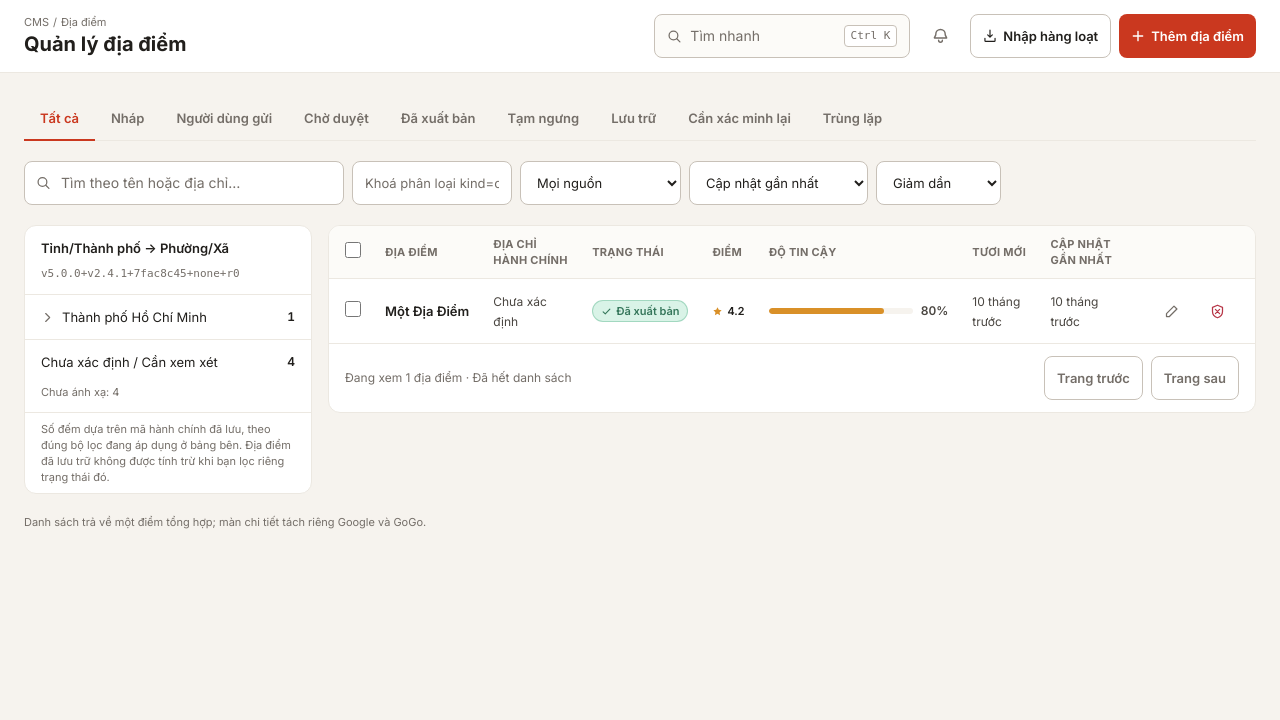
it: bulk place workflow › from published offers exactly the legal transitions
Step 1. Click the checkbox named "Một Địa Điểm" → [353, 308], box [345, 300, 361, 316]
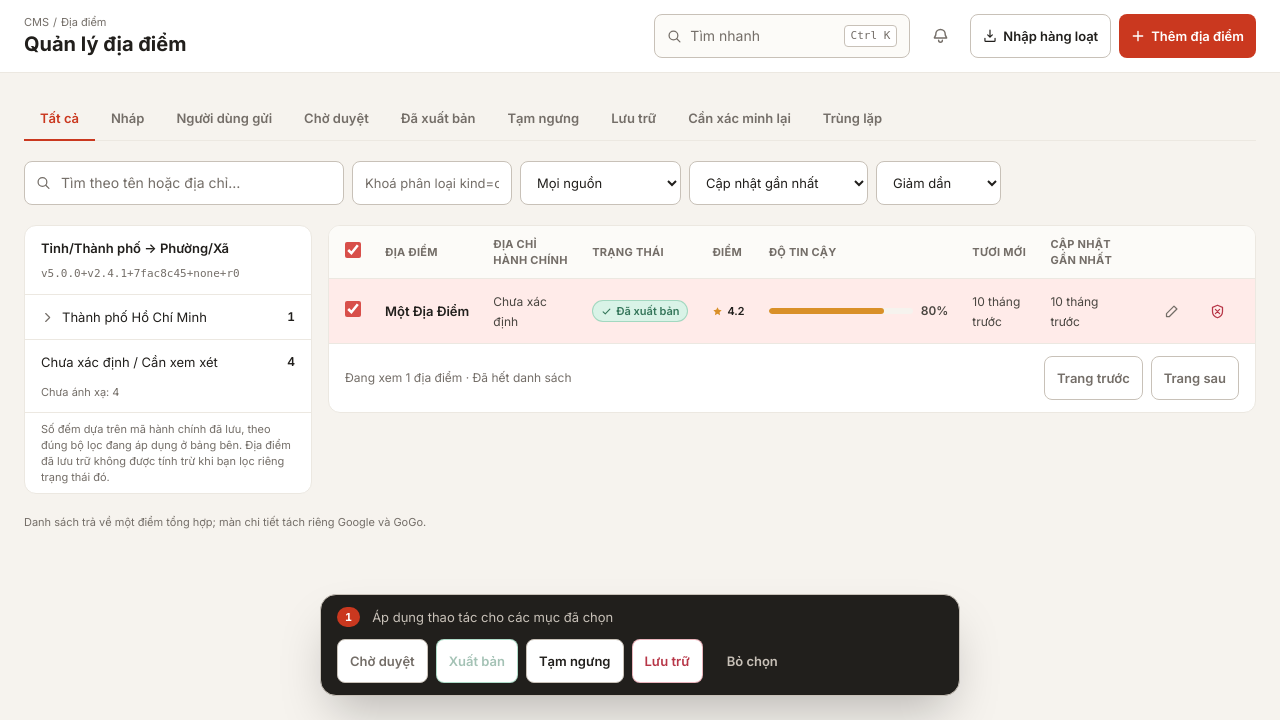
Result: the button "Xuất bản" is disabled at [436, 639, 518, 683]
Result: the button "Chờ duyệt" is disabled at [337, 639, 428, 683]
Result: the button "Tạm ngưng" is enabled at [526, 639, 624, 683]
